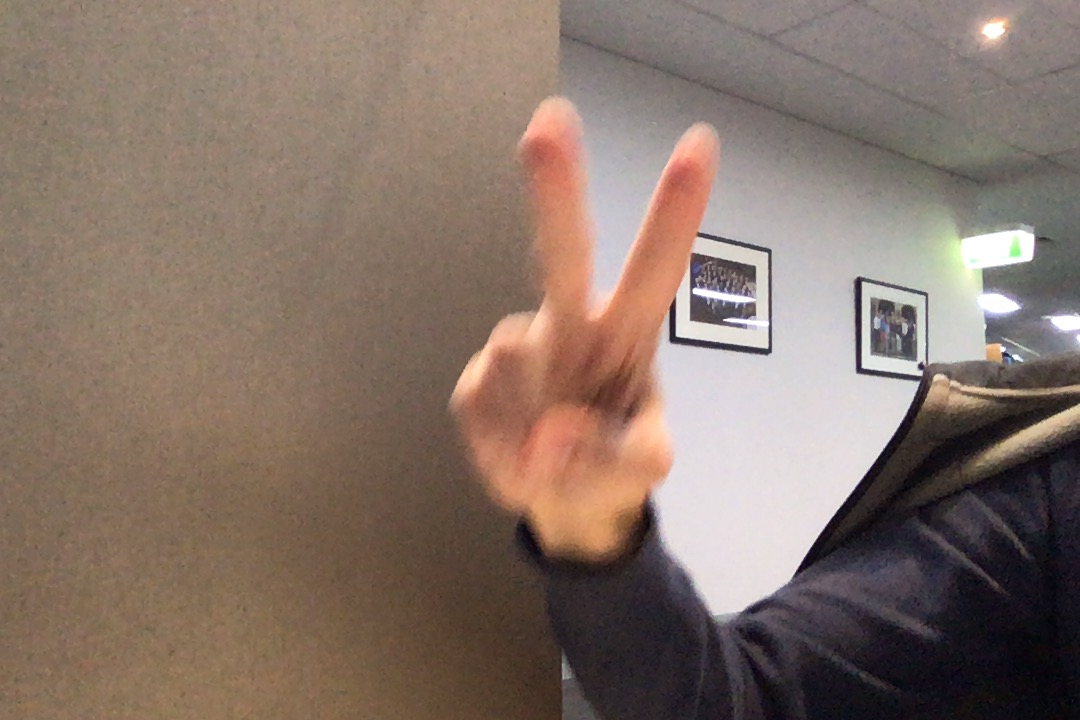peacesign: (434, 92, 738, 561)
